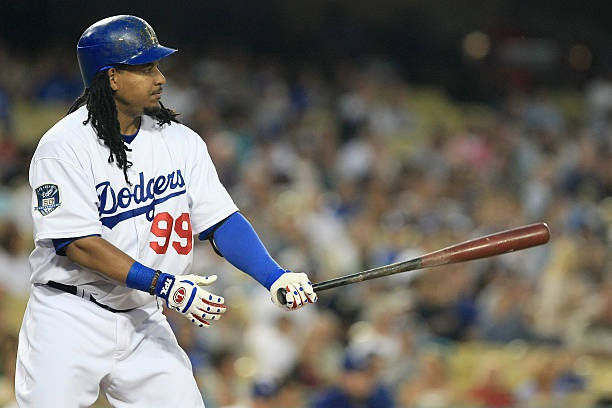bita: (275, 221, 553, 303)
